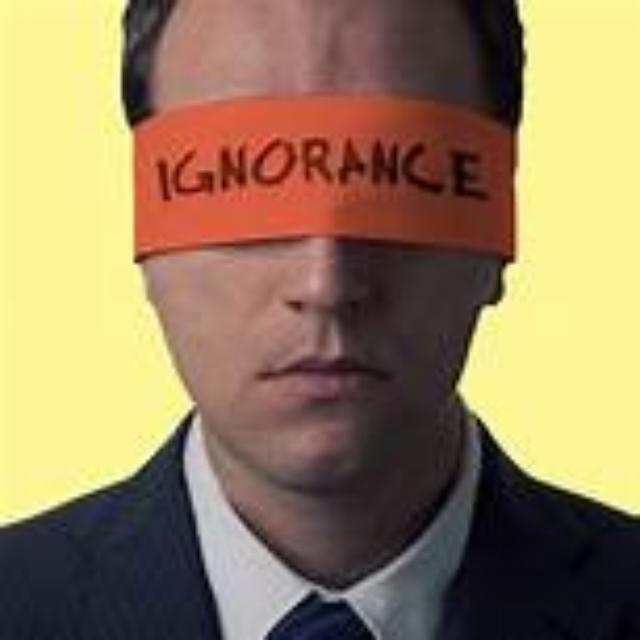person: (120, 7, 602, 505)
